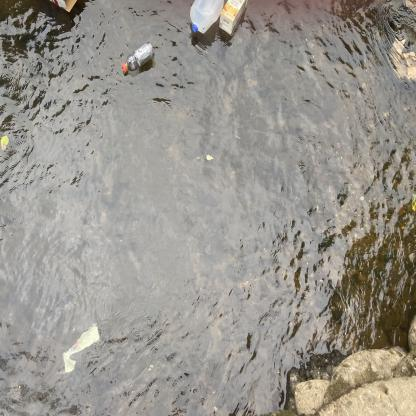trash: (58, 318, 105, 378), (185, 0, 226, 41), (387, 35, 416, 84), (216, 0, 252, 39), (119, 40, 156, 77), (40, 0, 84, 21)
